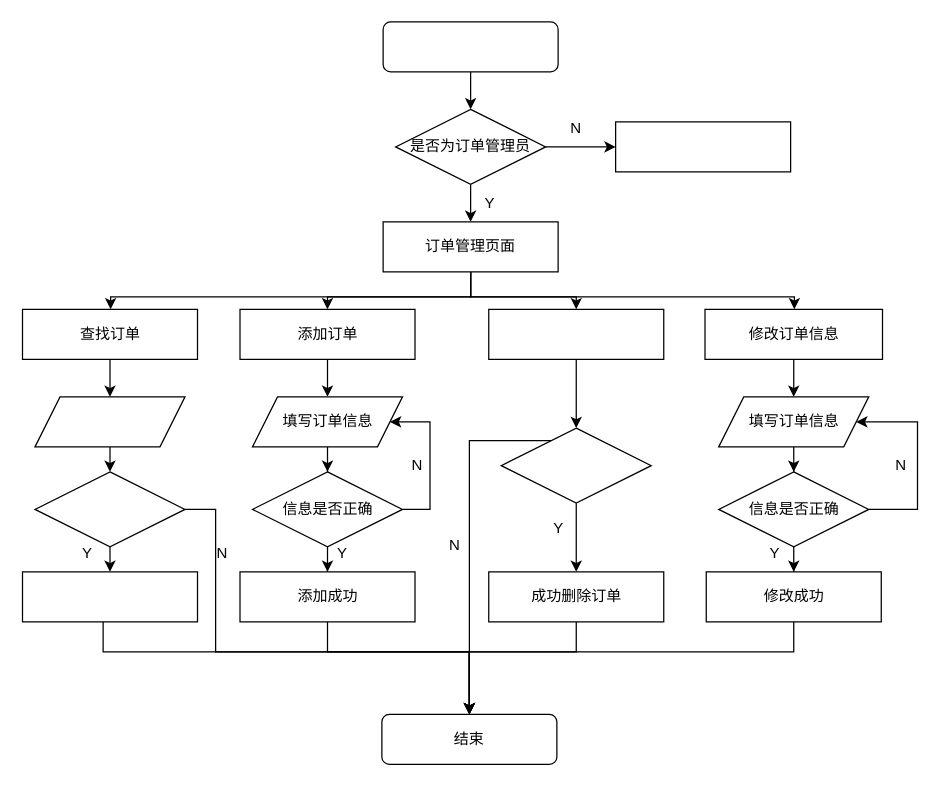
Some shapes in this 949 by 786 pixel diagram are drawn without their labels. The centre of each missing label's shape, as x and y in pixels:
"其他管理页面" goes at point (702, 146).
"删除 订单" goes at point (576, 333).
"开始" goes at point (470, 46).
"确认删除" goes at point (575, 465).
"订单是否存在" goes at point (109, 509).
"输入订单号" goes at point (109, 421).
"返回 订单信息" goes at point (109, 596).
